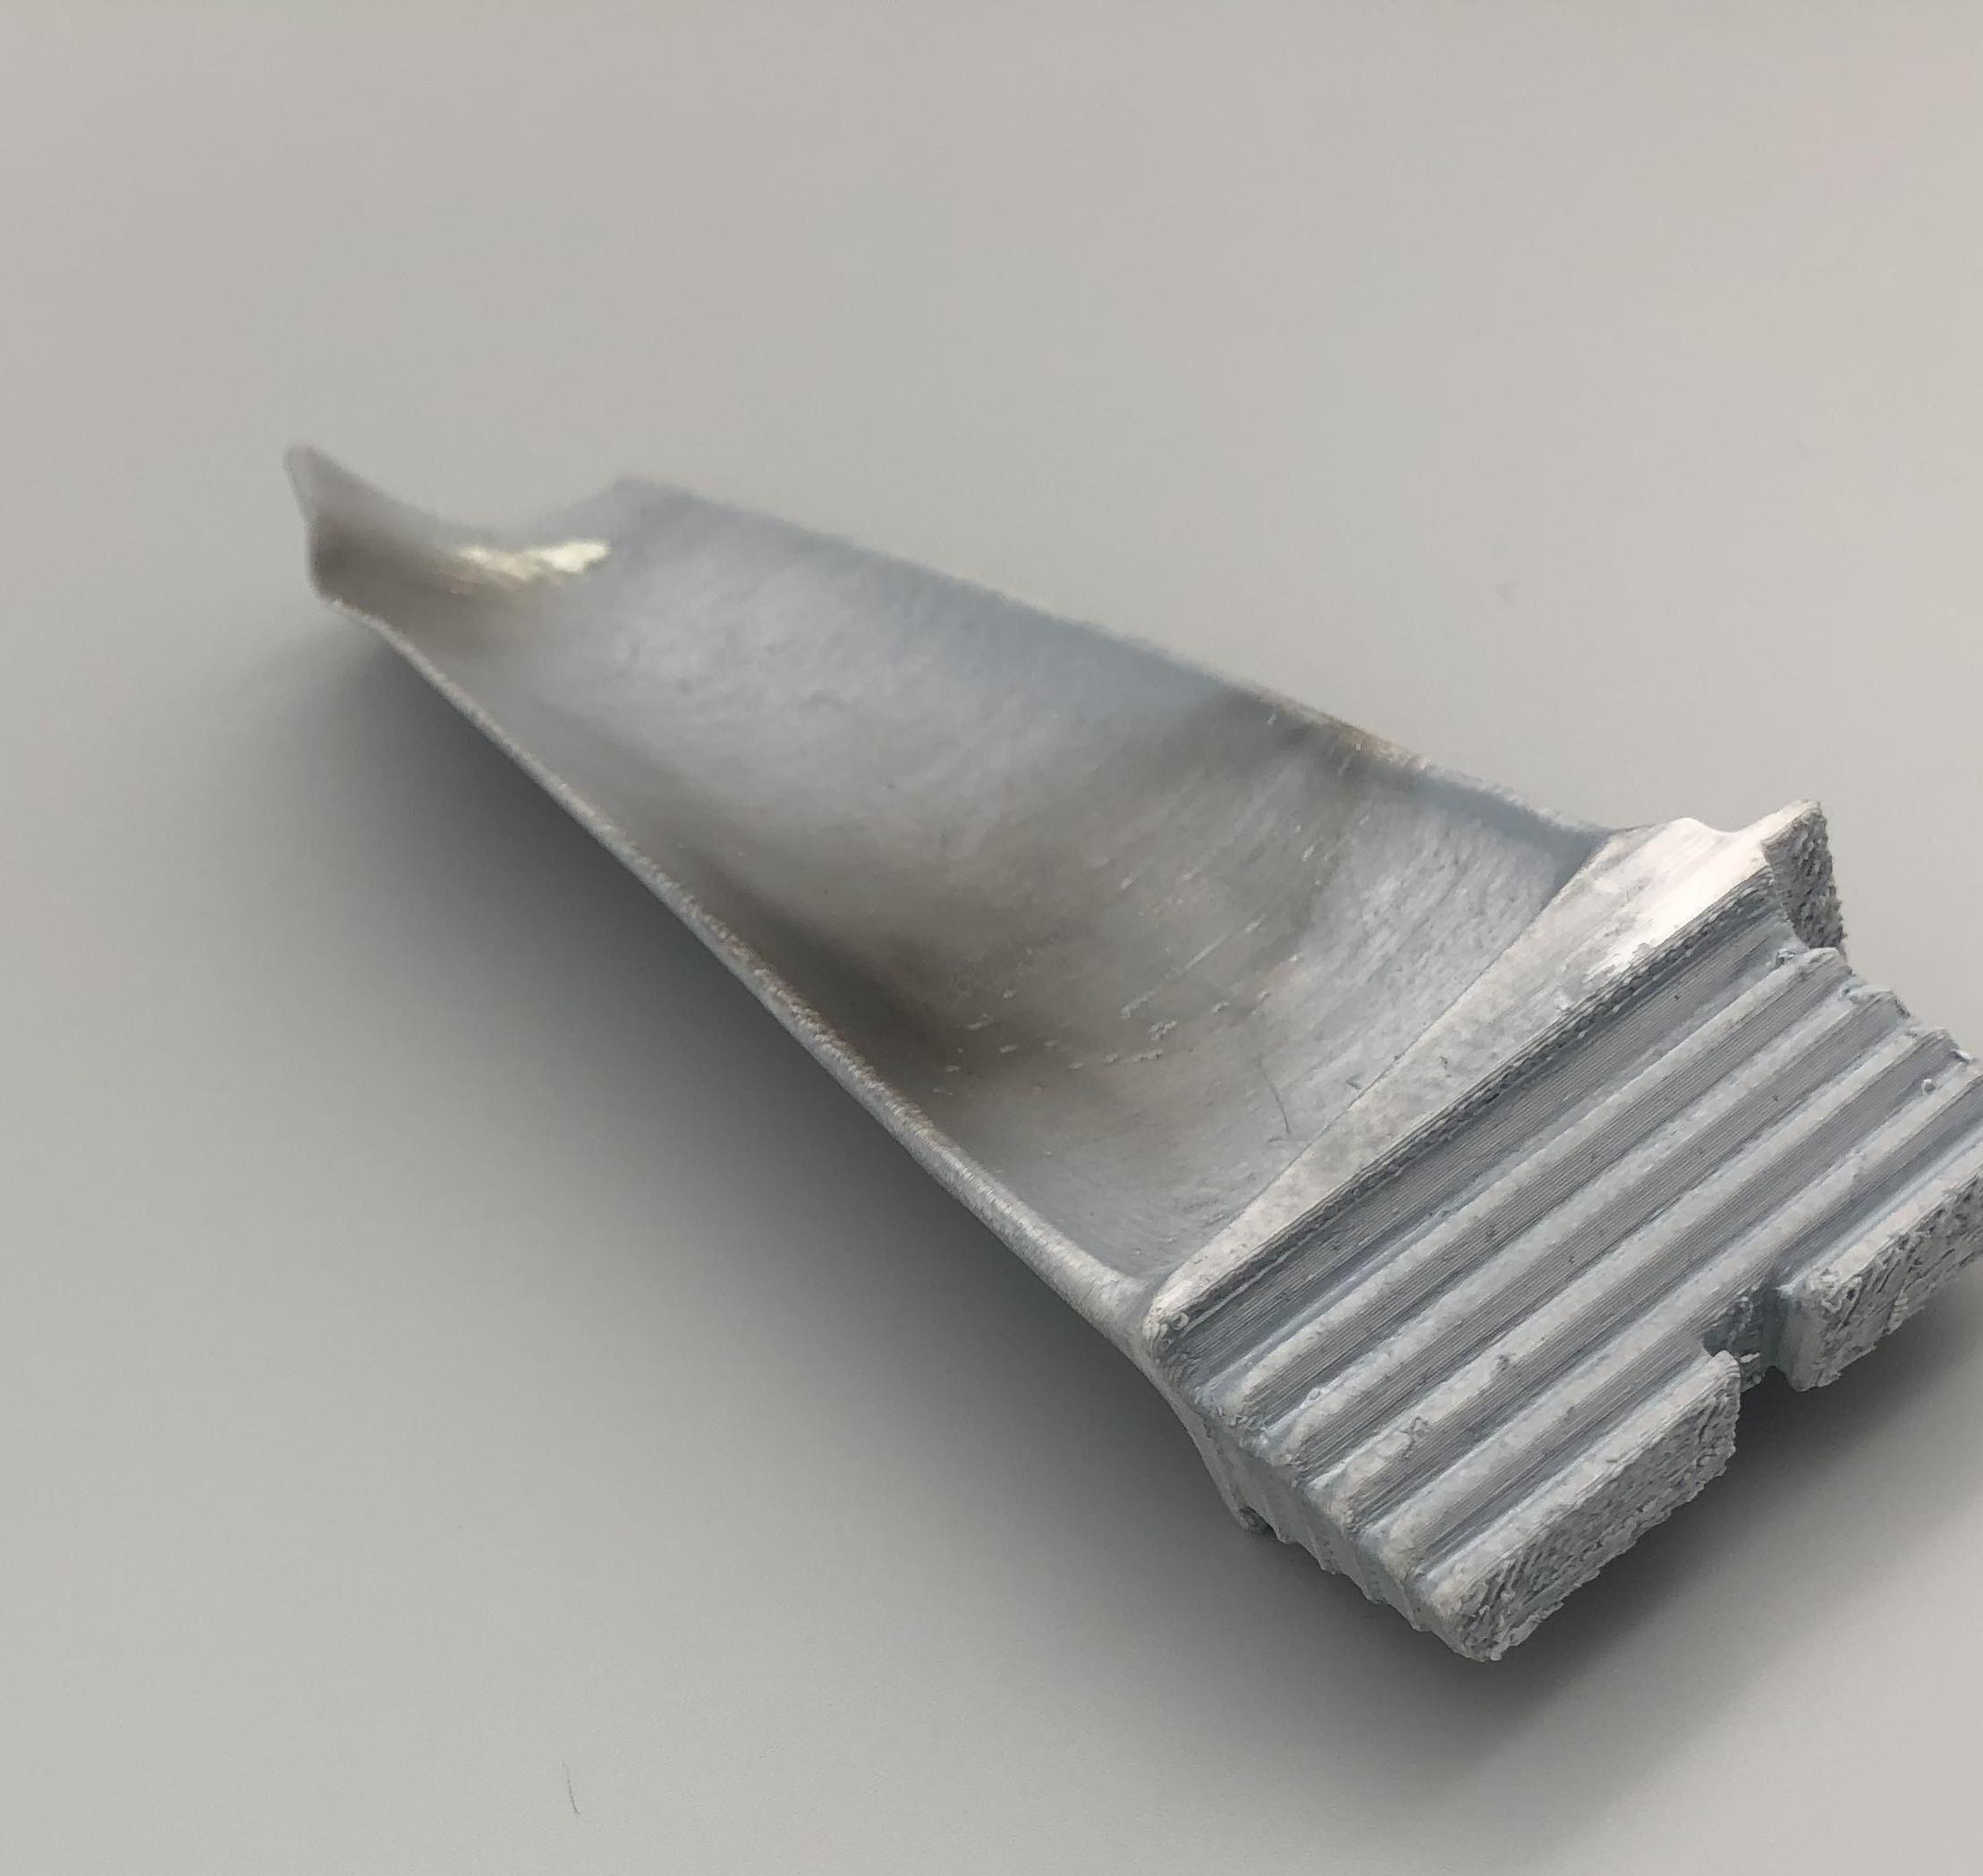ablation: (809, 832, 1177, 1098), (330, 531, 541, 622)
